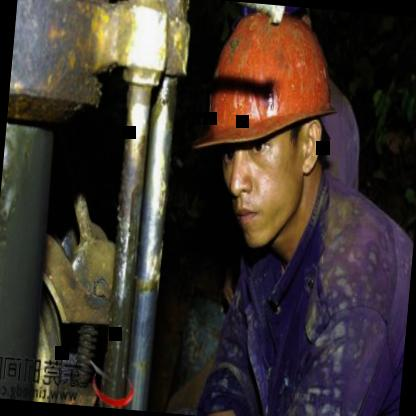helmet: (178, 0, 356, 276)
